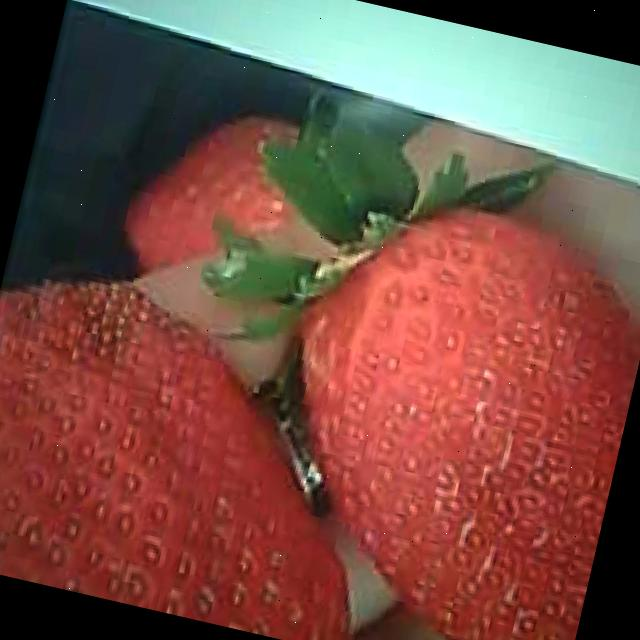strawberry: (234, 176, 640, 640)
